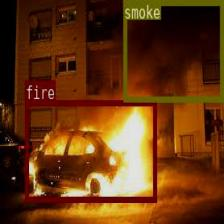fire: (25, 100, 156, 202)
smoke: (122, 0, 222, 100)
